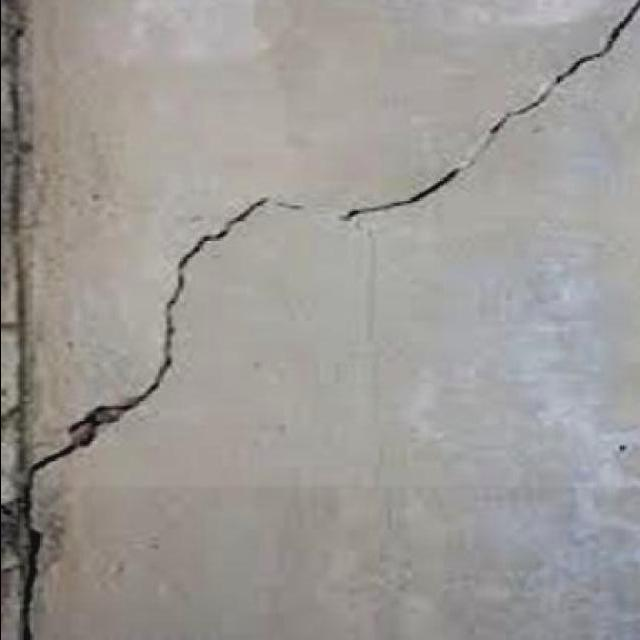SurfaceCrack: (14, 0, 640, 628)
